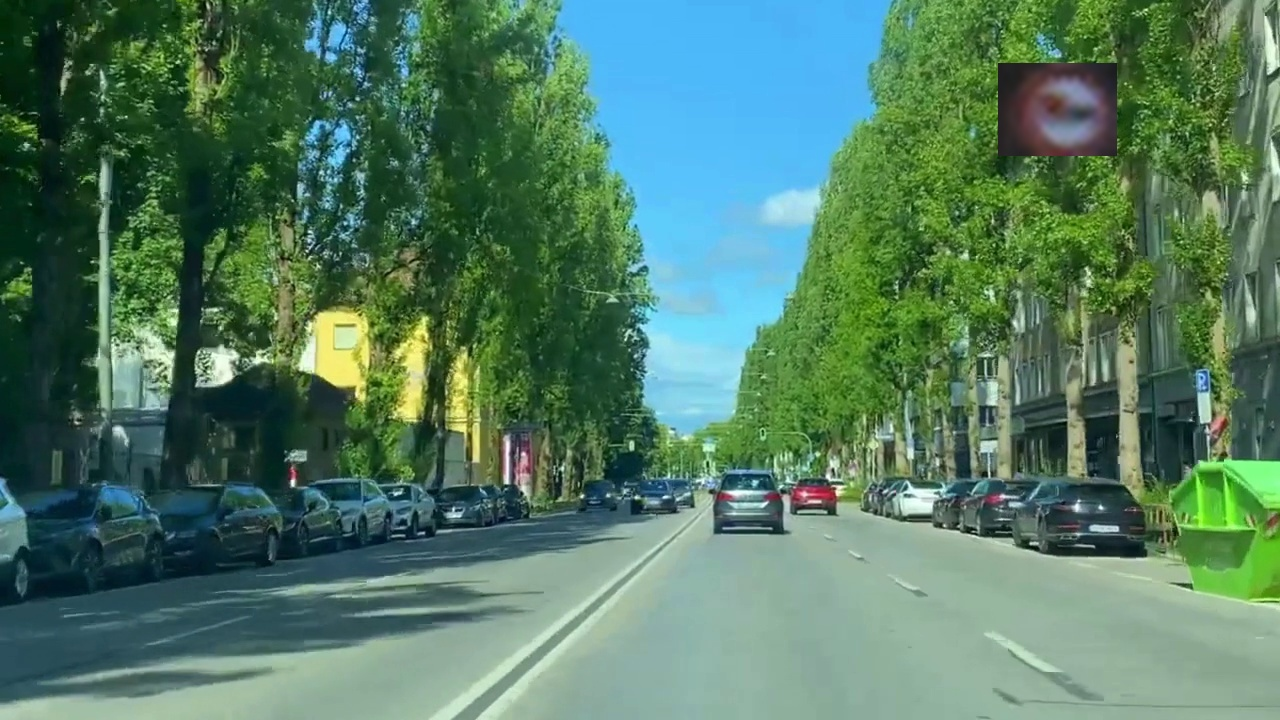No pass >3.5t: (998, 63, 1117, 156)
